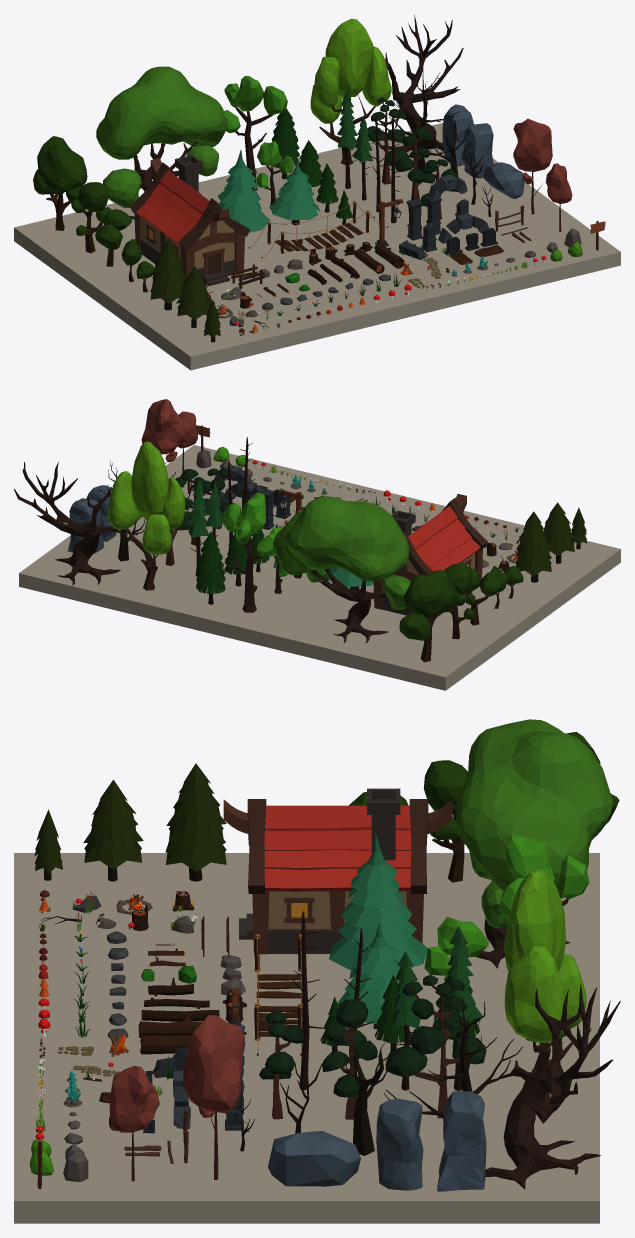
The model's file is NaturePack_AllModels.obj.
The picture shows the model from 3 angles, top to bottom: view 1: azimuth 30°, elevation 25°; view 2: azimuth 150°, elevation 25°; view 3: azimuth 270°, elevation 25°; orthographic projection. The views are drawn at different scales.
Visible parts, largest first — view 1: BG_Cube, Tree5_2, House, Tree1, Tree1_1, Tree5_1, Tree2_1, Tree4_2, Tree3_1, Tree4_1, Tree4_1.001, Bridge1 (+19 smaller); view 2: BG_Cube, Tree5_2, Tree1, House, Tree5_1, Tree1_1, Tree2_1, Tree3_1, Tree4_1.001, Tree3_1.001, Tree4_2.001, Tree1_2 (+14 smaller); view 3: BG_Cube, House, Tree5_2, Tree1, Tree5_1, Tree4_2, Tree3_1, Tree6_1, Tree4_1.001, BigRock3, BigRock1, BigRock2 (+20 smaller).
Boxes of the visible parts, x1,y1,x2,y2 form: BG_Cube: (14,123,620,370); Tree5_2: (96,66,225,219); House: (130,155,249,285); Tree1: (310,18,391,164); Tree1_1: (33,136,87,230); Tree5_1: (381,15,463,152); Tree2_1: (224,76,287,190); Tree4_2: (217,150,270,232); Tree3_1: (513,118,552,214); Tree4_1: (269,160,320,225); Tree4_1.001: (150,238,185,310); Bridge1: (248,200,387,258); BG_Cube: (19,445,620,690); Tree5_2: (273,496,410,643); Tree1: (108,441,185,590); House: (373,494,487,619); Tree5_1: (14,462,127,585); Tree1_1: (399,570,458,662); Tree2_1: (221,492,275,612); Tree3_1: (141,399,184,463); Tree4_1.001: (515,511,551,582); Tree3_1.001: (196,531,225,604); Tree4_2.001: (544,502,575,563); Tree1_2: (444,562,474,639); BG_Cube: (14,853,599,1223); House: (223,788,452,954); Tree5_2: (456,719,612,968); Tree1: (503,870,586,1111); Tree5_1: (485,984,620,1189); Tree4_2: (329,834,427,970); Tree3_1: (182,1015,244,1179); Tree6_1: (385,975,486,1118); Tree4_1.001: (165,763,226,881); BigRock3: (268,1131,360,1186); BigRock1: (437,1091,486,1191); BigRock2: (376,1098,423,1190).
Size of what is drawn, in the model's own units: 6476 by 2216 by 4642.
